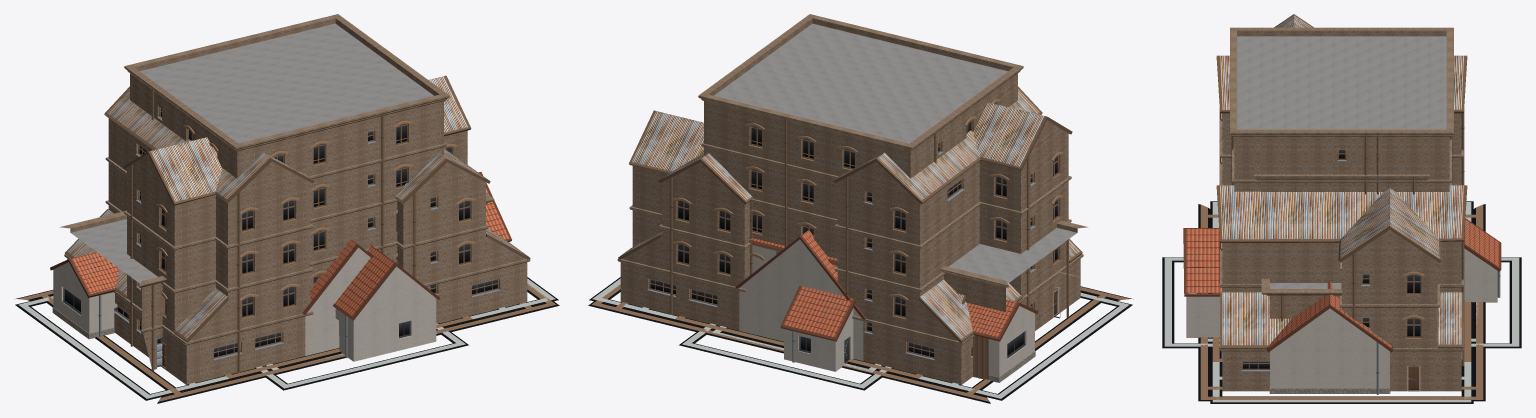
Rendered from france.glb.
3 renders of one model, left to right at view 1: azimuth 30°, elevation 25°; view 2: azimuth 150°, elevation 25°; view 3: azimuth 270°, elevation 25°, orthographic.
Parts seen in each view (by area): view 1: _MeshInstance3D_5, _MeshInstance3D_15, _MeshInstance3D_14, _MeshInstance3D_9, _MeshInstance3D_2, _MeshInstance3D_4, _MeshInstance3D_40, _MeshInstance3D_6, _MeshInstance3D_16, _MeshInstance3D_13, _MeshInstance3D_34, _MeshInstance3D_38 (+7 smaller); view 2: _MeshInstance3D_5, _MeshInstance3D_15, _MeshInstance3D_14, _MeshInstance3D_9, _MeshInstance3D_2, _MeshInstance3D_4, _MeshInstance3D_34, _MeshInstance3D_6, _MeshInstance3D_16, _MeshInstance3D_8, _MeshInstance3D_13, _MeshInstance3D_7 (+7 smaller); view 3: _MeshInstance3D_14, _MeshInstance3D_9, _MeshInstance3D_8, _MeshInstance3D_15, _MeshInstance3D_6, _MeshInstance3D_19, _MeshInstance3D_38, _MeshInstance3D_16, _MeshInstance3D_39, _MeshInstance3D_2, _MeshInstance3D_5, _MeshInstance3D_40 (+6 smaller).
Part boxes in pixels (x1,y1,x2,y2): _MeshInstance3D_5: [64, 118, 494, 384]; _MeshInstance3D_15: [124, 14, 449, 290]; _MeshInstance3D_14: [140, 23, 433, 143]; _MeshInstance3D_9: [59, 130, 530, 369]; _MeshInstance3D_2: [41, 86, 536, 396]; _MeshInstance3D_4: [67, 89, 310, 338]; _MeshInstance3D_40: [335, 266, 436, 361]; _MeshInstance3D_6: [14, 75, 559, 403]; _MeshInstance3D_16: [15, 171, 558, 400]; _MeshInstance3D_13: [151, 88, 474, 379]; _MeshInstance3D_34: [305, 247, 370, 355]; _MeshInstance3D_38: [254, 263, 468, 390]; _MeshInstance3D_5: [834, 120, 1083, 384]; _MeshInstance3D_15: [698, 14, 1023, 265]; _MeshInstance3D_14: [714, 23, 1007, 143]; _MeshInstance3D_9: [617, 162, 1088, 330]; _MeshInstance3D_2: [609, 86, 1111, 398]; _MeshInstance3D_4: [837, 89, 1079, 338]; _MeshInstance3D_34: [739, 239, 863, 360]; _MeshInstance3D_6: [588, 110, 1133, 403]; _MeshInstance3D_16: [589, 277, 1132, 400]; _MeshInstance3D_8: [622, 111, 964, 302]; _MeshInstance3D_13: [675, 99, 1000, 378]; _MeshInstance3D_7: [948, 228, 1076, 283]; _MeshInstance3D_14: [1237, 36, 1446, 129]; _MeshInstance3D_9: [1220, 230, 1463, 391]; _MeshInstance3D_8: [1219, 185, 1464, 345]; _MeshInstance3D_15: [1230, 27, 1453, 312]; _MeshInstance3D_6: [1198, 185, 1485, 401]; _MeshInstance3D_19: [1270, 308, 1437, 388]; _MeshInstance3D_38: [1162, 218, 1521, 348]; _MeshInstance3D_16: [1210, 201, 1473, 403]; _MeshInstance3D_39: [1186, 219, 1499, 293]; _MeshInstance3D_2: [1198, 14, 1485, 391]; _MeshInstance3D_5: [1220, 113, 1463, 318]; _MeshInstance3D_40: [1186, 248, 1497, 337].
Size of the model in its own units: 2 by 1.03 by 1.5.
Materials: 9 (9 with a texture image).
